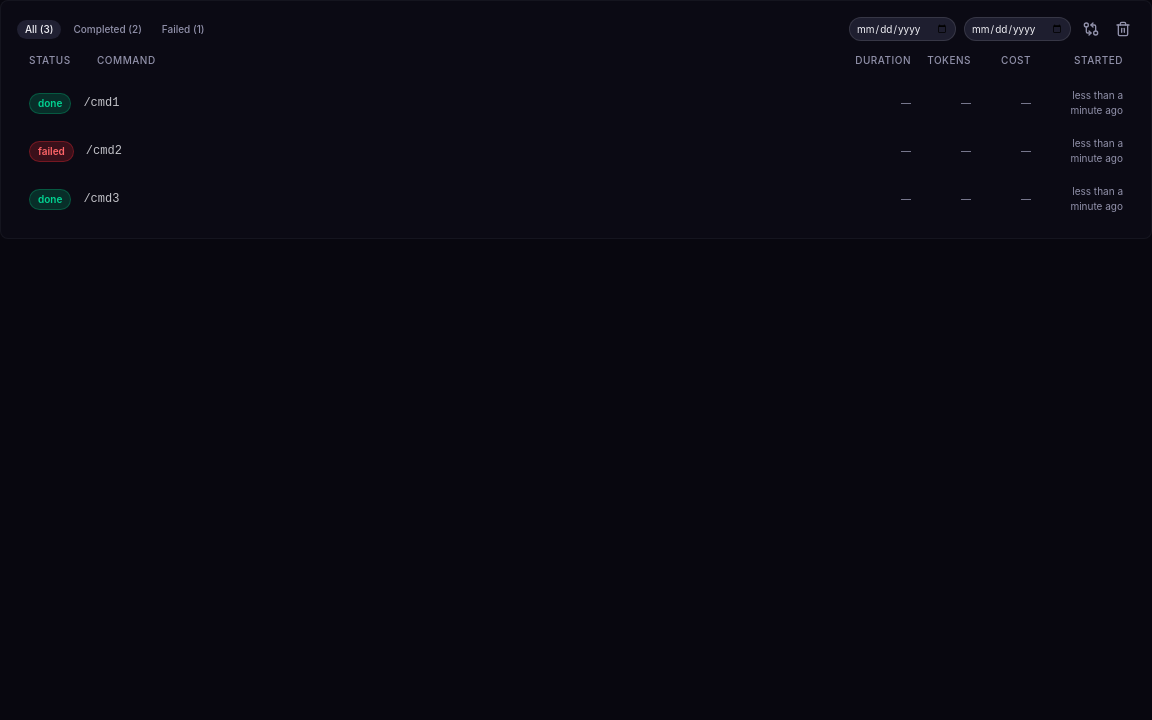
Test: RecentJobs - extended coverage › confirmation dialog job counts › clear range button shows count of jobs matching the selected range
Click the 5th button: coordinates (1123, 29) [1111,17,1135,41]
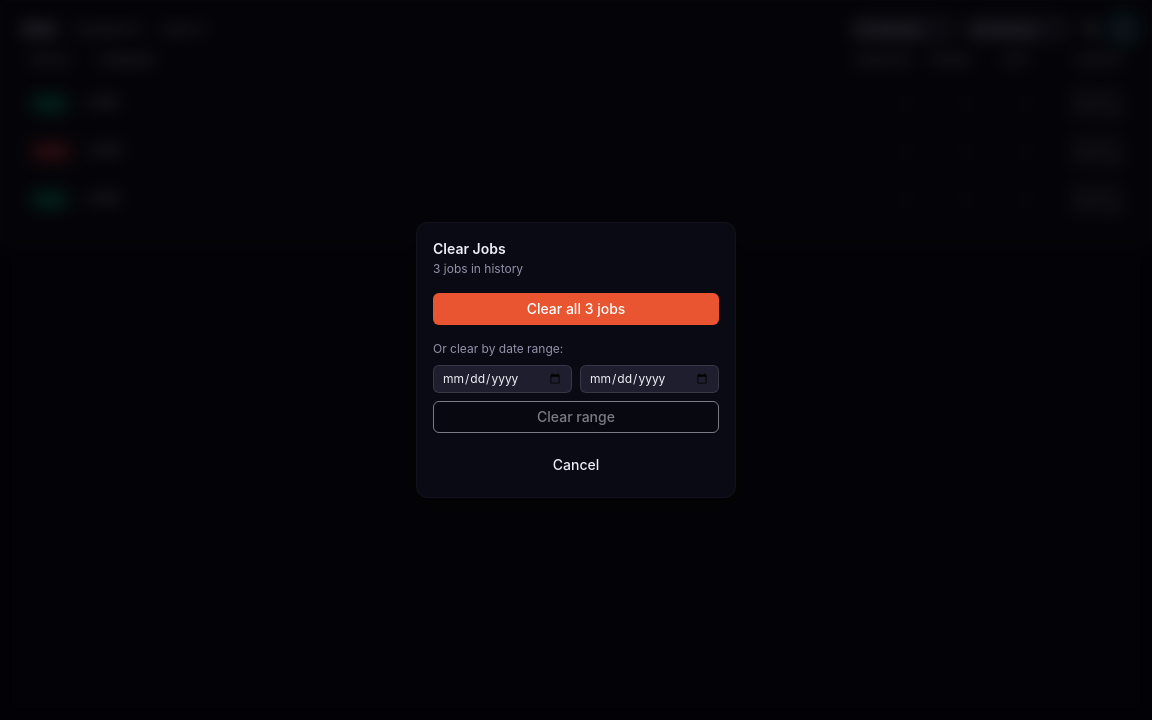
In the date field with placeholder "From": coordinates (502, 379) [433,365,572,393], type "2020-01-01"
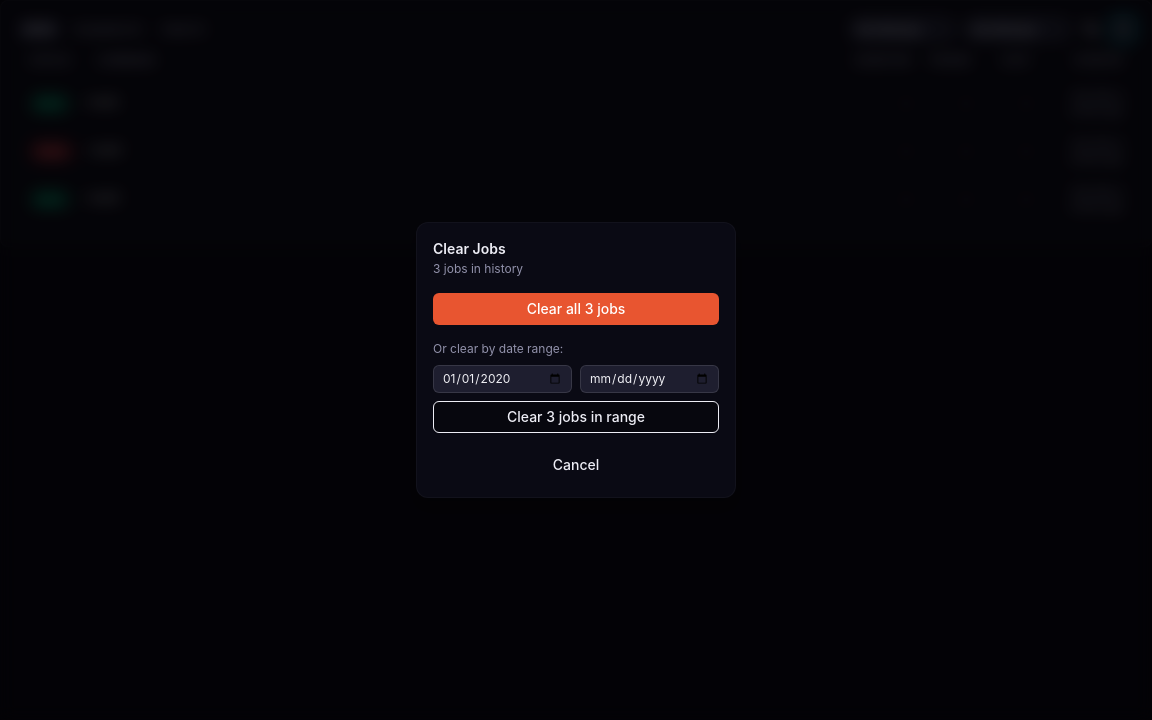
Now the button "Clear 3 jobs in range" is shown, box [433,401,719,433]
